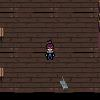Victim: (43, 38, 57, 61)
Win: (56, 75, 71, 92)
